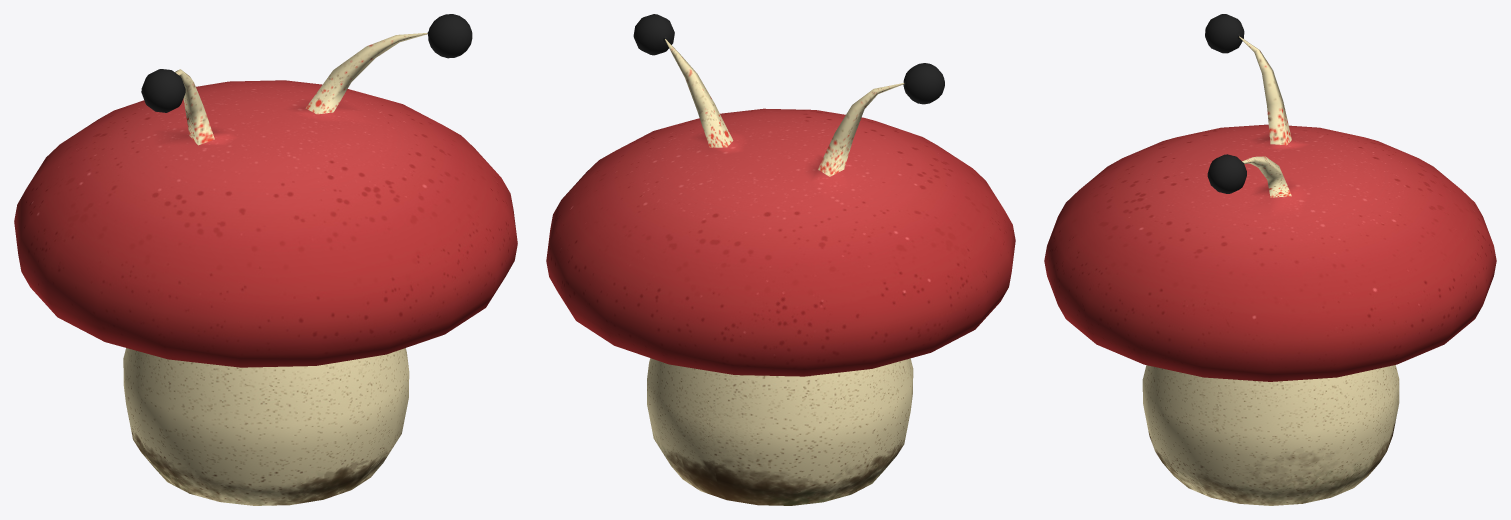
3 views of the same model, side by side, from view 1: azimuth 30°, elevation 25°; view 2: azimuth 150°, elevation 25°; view 3: azimuth 270°, elevation 25° (orthographic). The views are drawn at different scales.
Parts seen in each view (by area): view 1: Object_2; view 2: Object_2; view 3: Object_2.
Boxes of the visible parts, bbox=[...] form: Object_2: bbox=[14, 14, 517, 505]; Object_2: bbox=[546, 14, 1015, 505]; Object_2: bbox=[1044, 14, 1496, 505].
Size of the model in its own units: 0.6145 by 0.5845 by 0.6145.
Materials: 1 (1 with a texture image).
